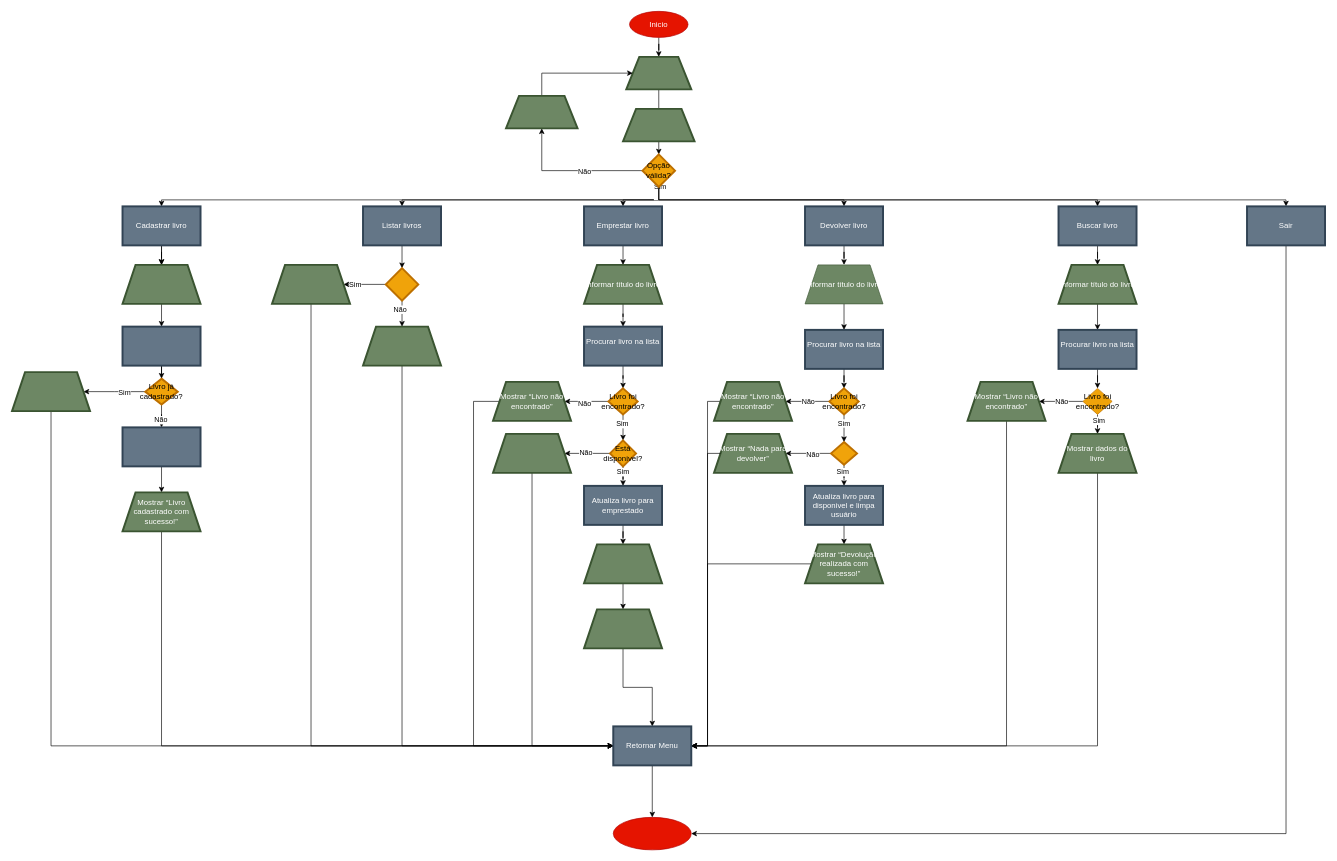
The diagram is 1337 pixels wide and 861 high, and some of its shapes have lost their labels. Each missing label, with the box of its shape:
Adicionar na lista: (121, 426, 201, 467)
Apresenta menu com opções: (625, 56, 692, 90)
Digitar opção do menu: (622, 108, 695, 142)
Digitar título/autor/ano: (121, 264, 201, 305)
Fim: (613, 817, 691, 850)
Informar nome do usuario que pegou o livro: (583, 543, 663, 584)
Lista vazia?: (384, 267, 419, 301)
Mostra lista de livros: (362, 325, 442, 366)
Mostrar "Livro já cadastrado": (11, 371, 91, 412)
Mostrar Opção inválida: (505, 95, 578, 129)
Mostrar “Empréstimo realizado!”: (583, 608, 663, 649)
Mostrar “Livro está emprestado”: (492, 433, 572, 474)
Mostrar “Nenhum livro cadastrado”: (271, 264, 351, 305)
Verifica se livro existe na lista: (121, 325, 201, 366)
